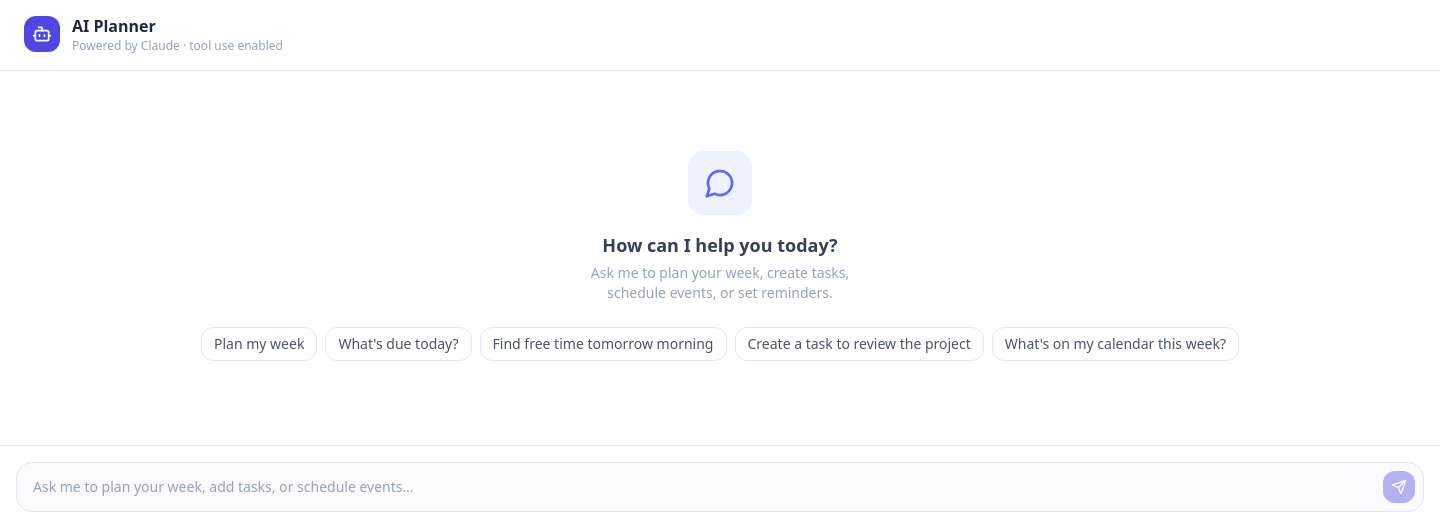
Test: ChatPanel › shows error message on error event
The image size is (1440, 529).
Type "Hello" into the text box with placeholder "Ask me to plan your week, add tasks, or schedule events…" at (700, 487), box [25,471,1375,503]
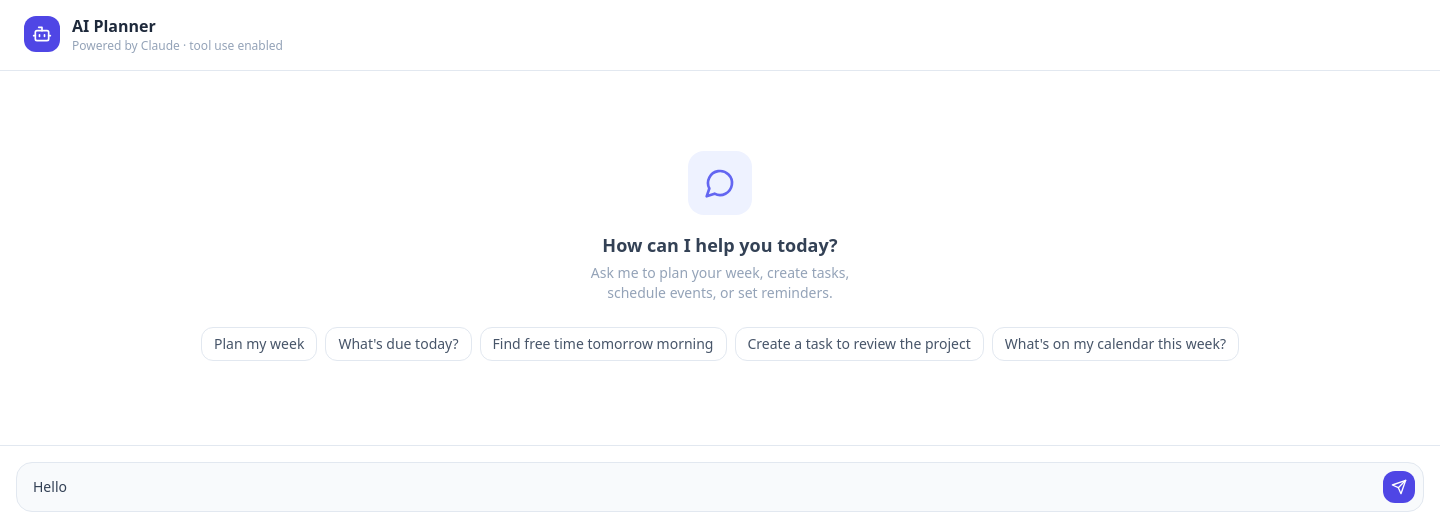
Press Enter in the text box with placeholder "Ask me to plan your week, add tasks, or schedule events…", box [25,471,1375,503]
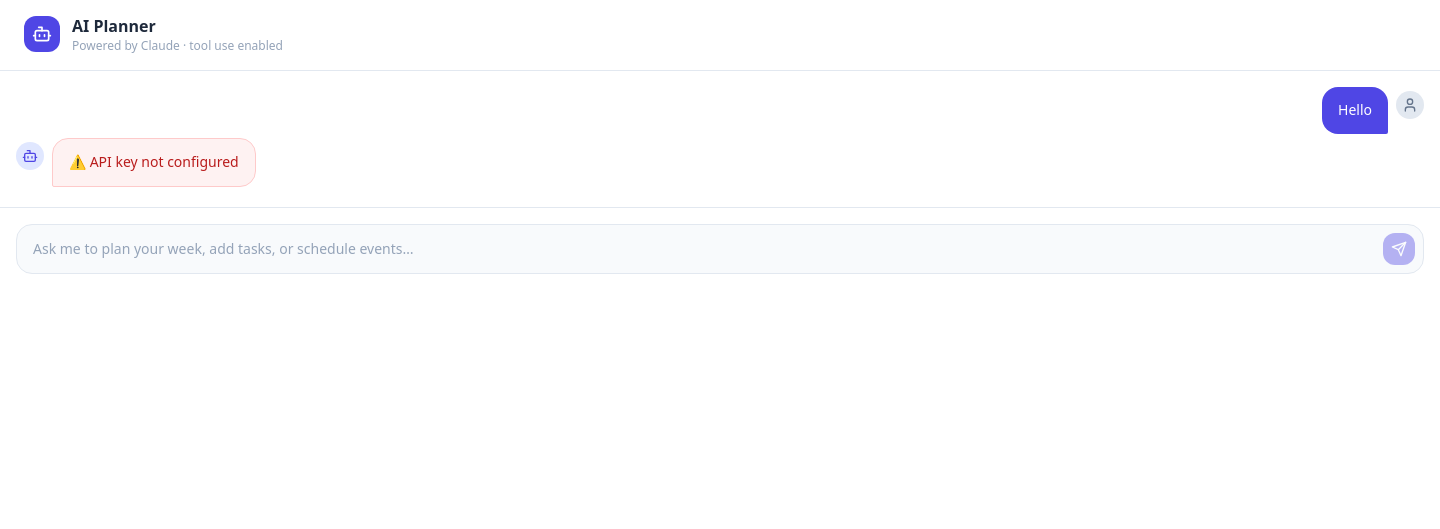
Expected: the text "⚠️ API key not configured" is shown, [52,138,256,187]
